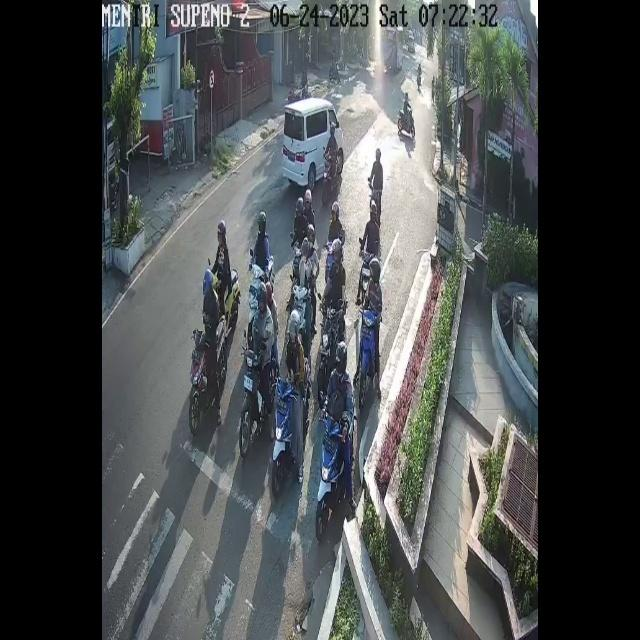bus: (189, 314, 228, 436), (315, 417, 347, 545), (269, 379, 296, 495), (240, 346, 264, 453), (212, 266, 238, 325), (358, 310, 376, 394), (321, 309, 344, 363), (322, 151, 340, 207), (247, 263, 263, 313), (292, 285, 308, 328), (399, 110, 415, 138), (291, 244, 303, 279), (326, 240, 337, 274), (362, 252, 371, 291)
motorcycle: (284, 96, 344, 186)
